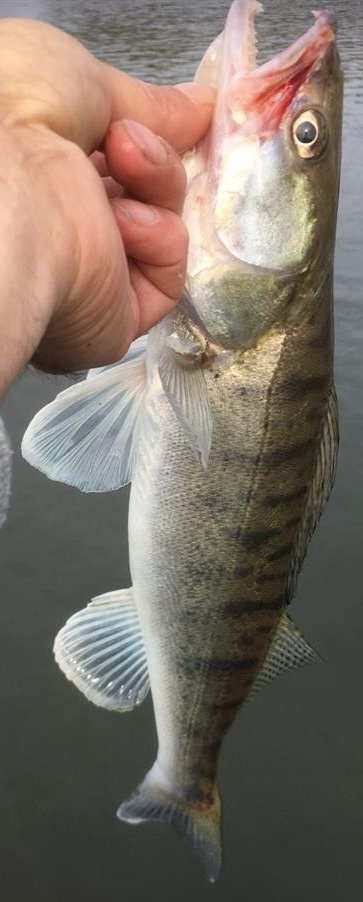Sander lucioperca: (20, 1, 343, 882)
